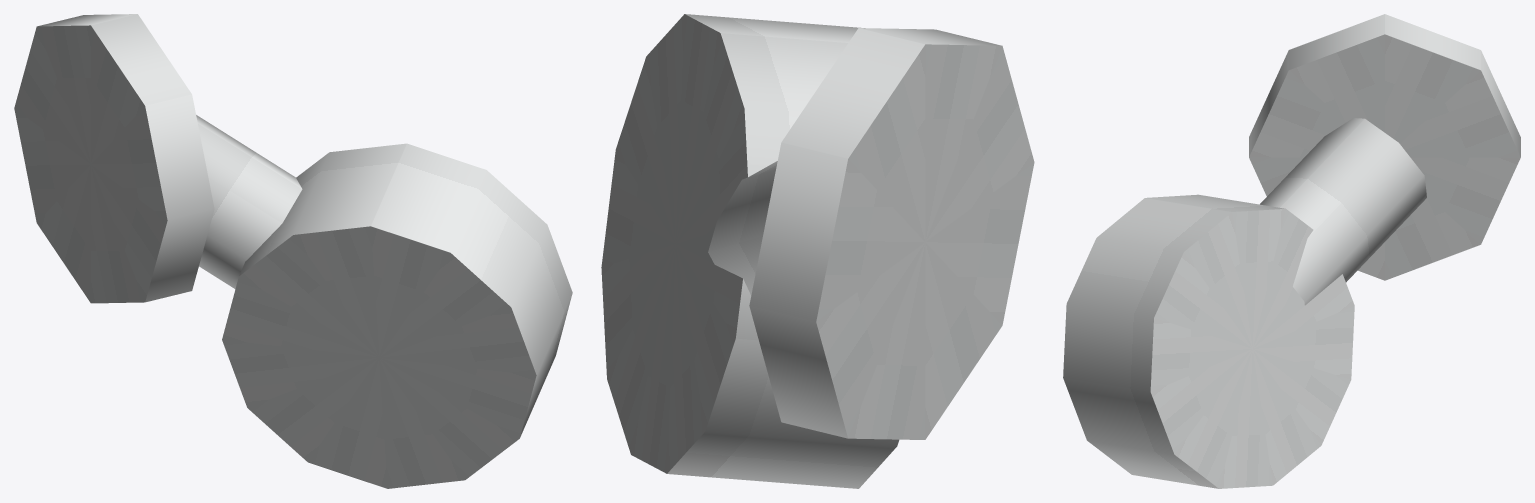
File: nycsignalarm_stub_160.obj
3 views of the same model, side by side, from view 1: azimuth 30°, elevation 25°; view 2: azimuth 150°, elevation 25°; view 3: azimuth 270°, elevation 25° (orthographic). The views are drawn at different scales.
Parts seen in each view (by area): view 1: nycsignalarm_stub_160; view 2: nycsignalarm_stub_160; view 3: nycsignalarm_stub_160.
Part boxes in pixels (<box>): nycsignalarm_stub_160: <box>14,14,572,488</box>; nycsignalarm_stub_160: <box>601,14,1034,488</box>; nycsignalarm_stub_160: <box>1063,14,1520,488</box>.
Size of the model in its own units: 0.4606 by 0.5366 by 0.5891.
